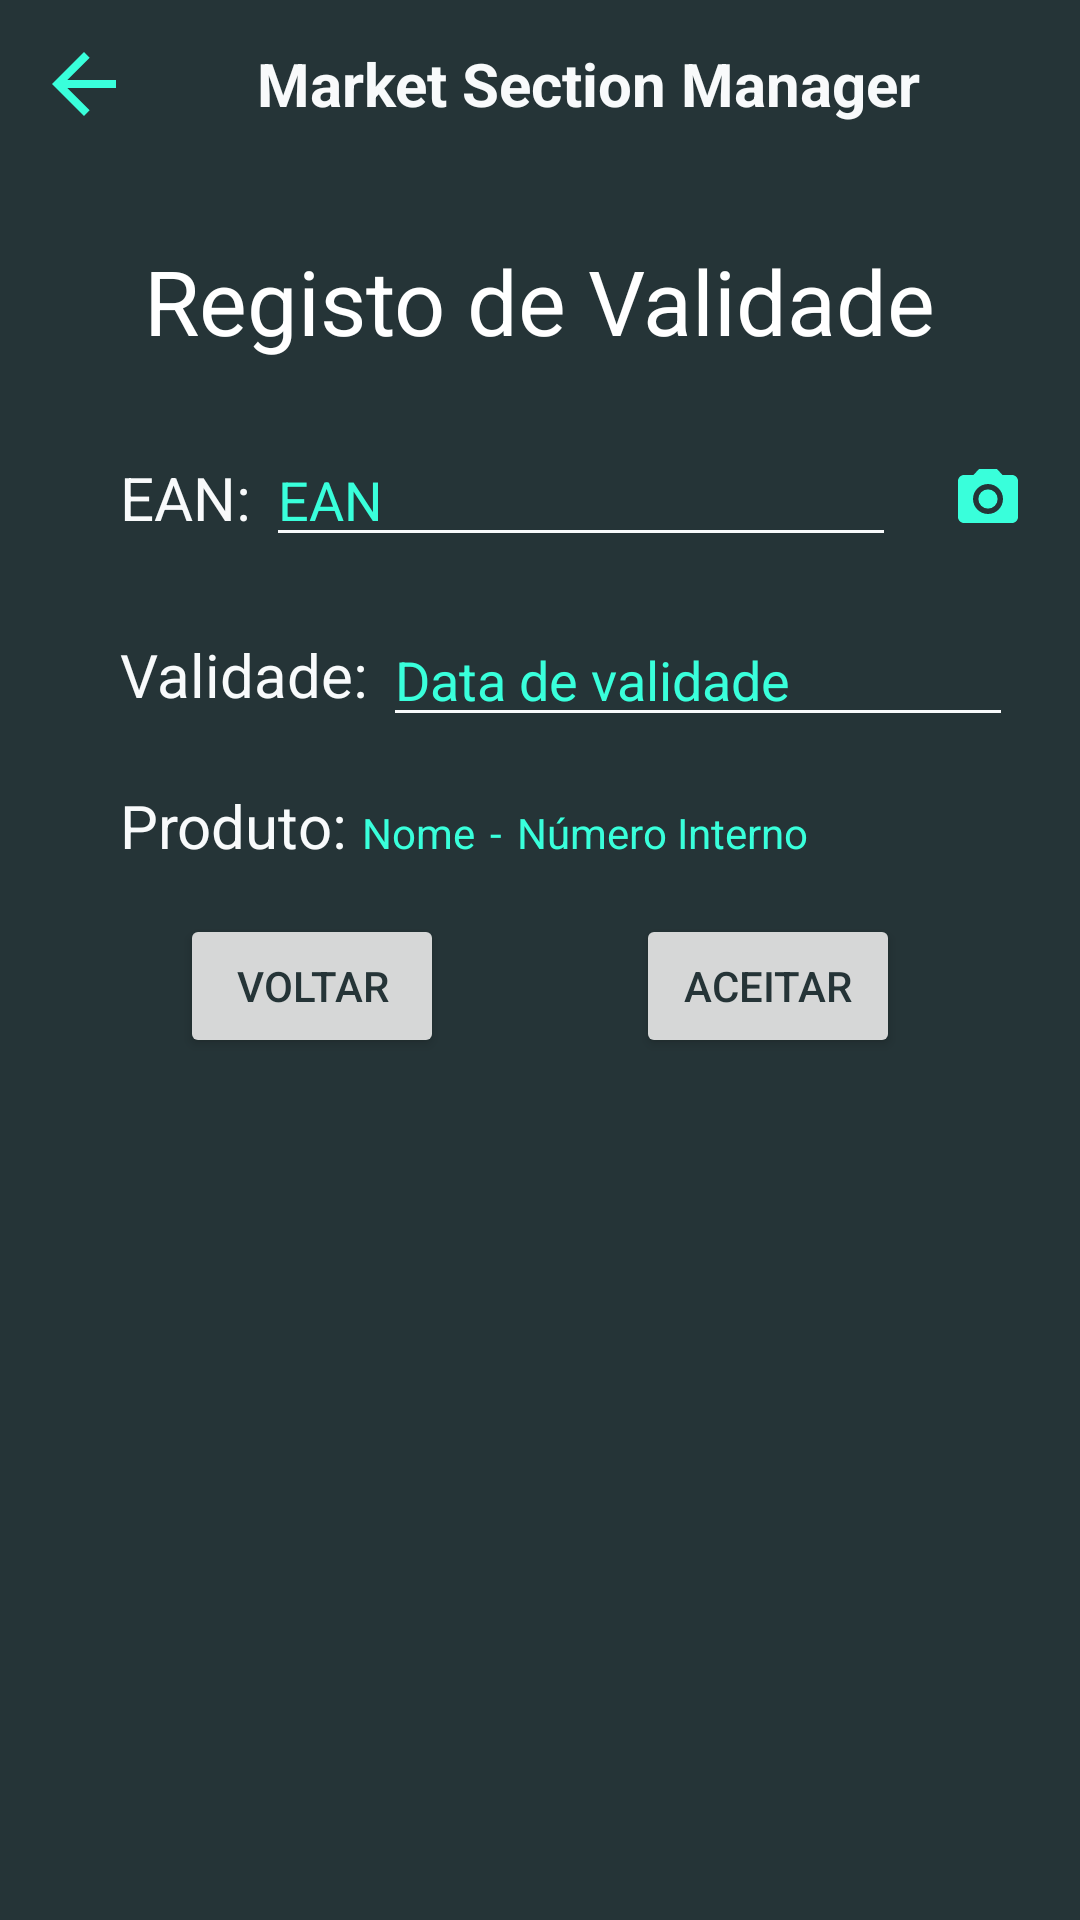

Named icons in this screenshot (1080×1920) and their centers, point (x, y):
arrow back: point (84, 84)
camera: point (988, 496)
